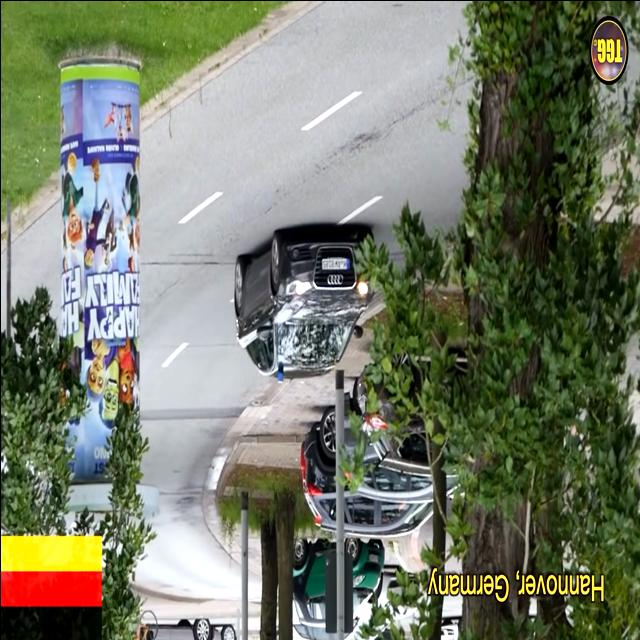emergency-vehicles: (220, 218, 399, 396)
